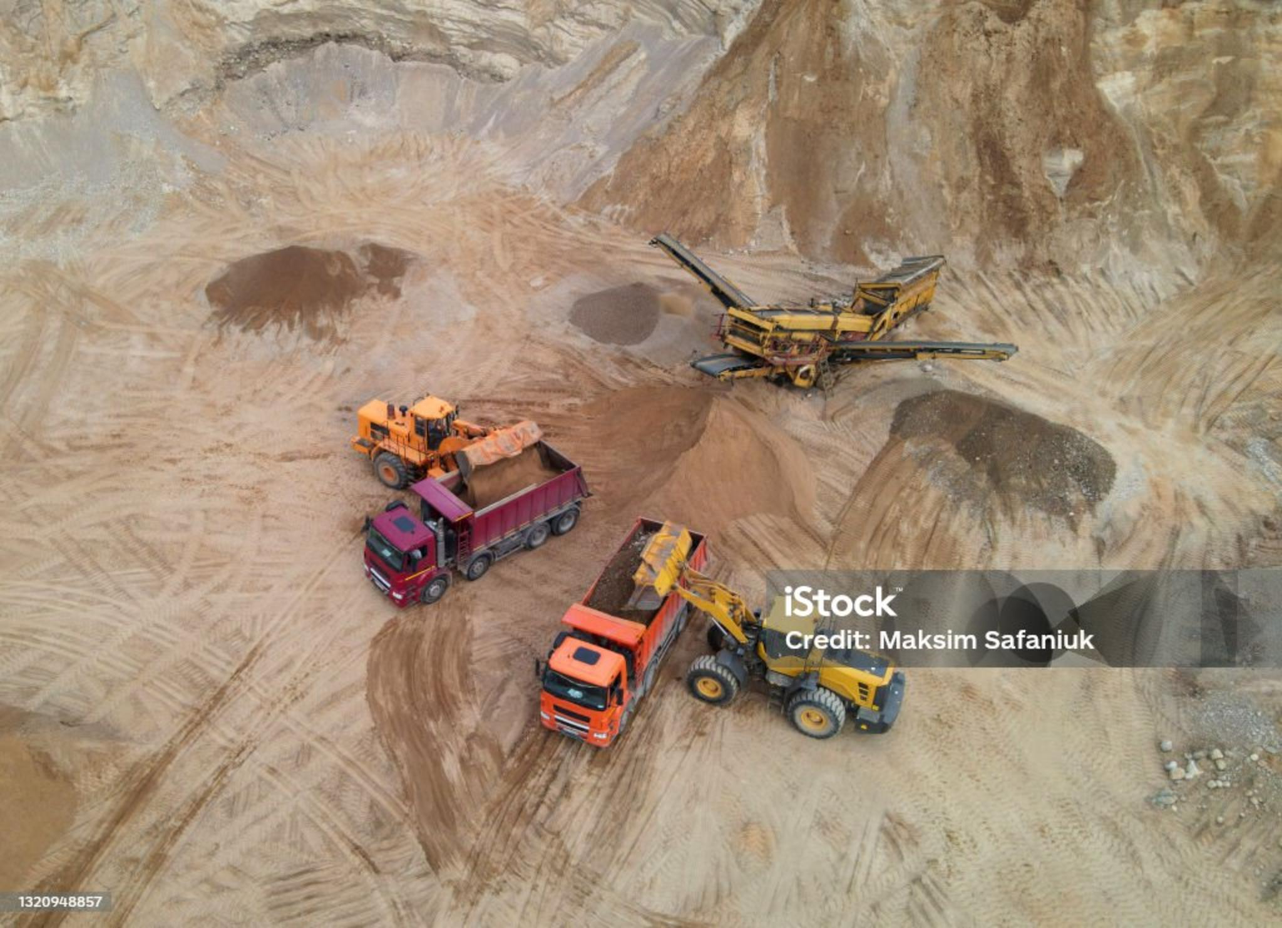excavator: (649, 549, 918, 747), (346, 384, 561, 480)
truck: (355, 466, 586, 612), (551, 530, 632, 746)
